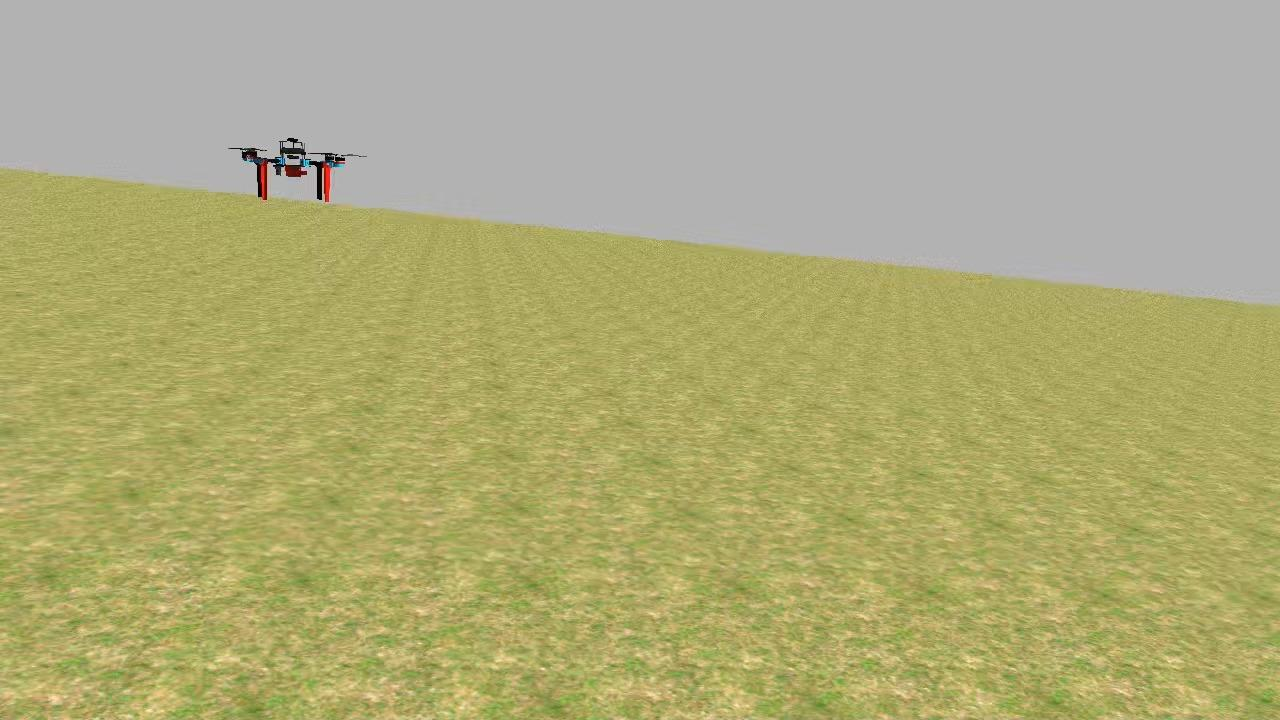UAV: (232, 128, 356, 210)
